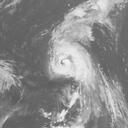cyclone: (48, 39, 96, 80)
